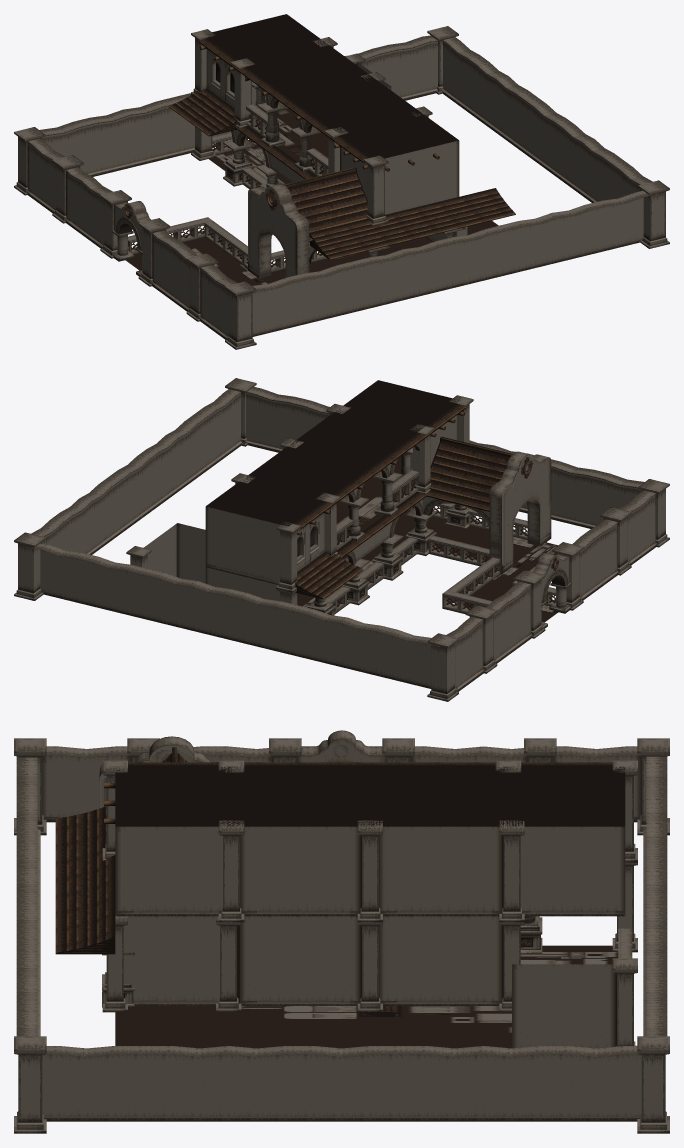
The model's file is EnvBdgMD_Wilderness_A_Outdoor_Mansion_A.FBX.
The picture shows the model from 3 angles, top to bottom: view 1: azimuth 30°, elevation 25°; view 2: azimuth 150°, elevation 25°; view 3: azimuth 270°, elevation 25°; orthographic projection. The views are drawn at different scales.
Visible parts, largest first — view 1: EnvBdgMD_Wilderness_A_Outdoor_Mansion_A; view 2: EnvBdgMD_Wilderness_A_Outdoor_Mansion_A; view 3: EnvBdgMD_Wilderness_A_Outdoor_Mansion_A.
Part boxes in pixels (x1,y1,x2,y2): EnvBdgMD_Wilderness_A_Outdoor_Mansion_A: [14, 14, 669, 349]; EnvBdgMD_Wilderness_A_Outdoor_Mansion_A: [14, 378, 669, 701]; EnvBdgMD_Wilderness_A_Outdoor_Mansion_A: [14, 730, 669, 1133].
Bounding box in the file's own units: 2614 × 700 × 2315.
1 material, 1 textured.
